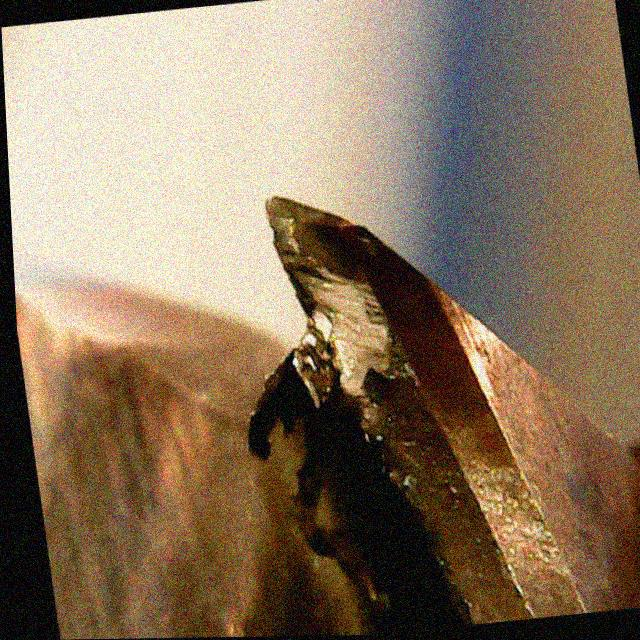Tool-wear-class-3: (202, 166, 488, 458)
